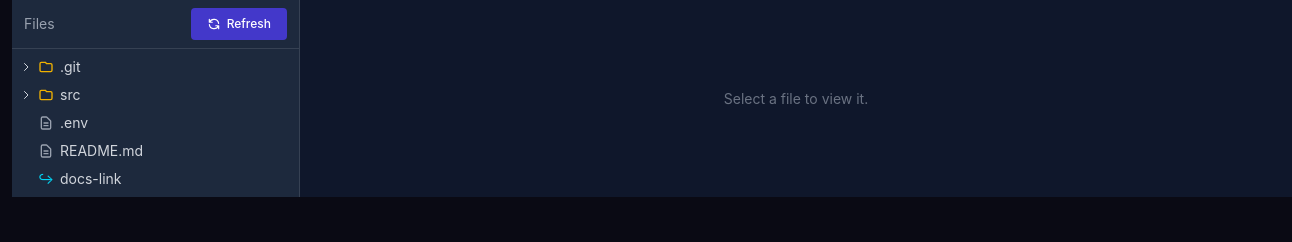
FileViewerWorkerView (desktop) › expands a directory lazily and opens a file from it with its path, line numbers and content
Click the button "src": (26, 95) [12, 81, 299, 109]
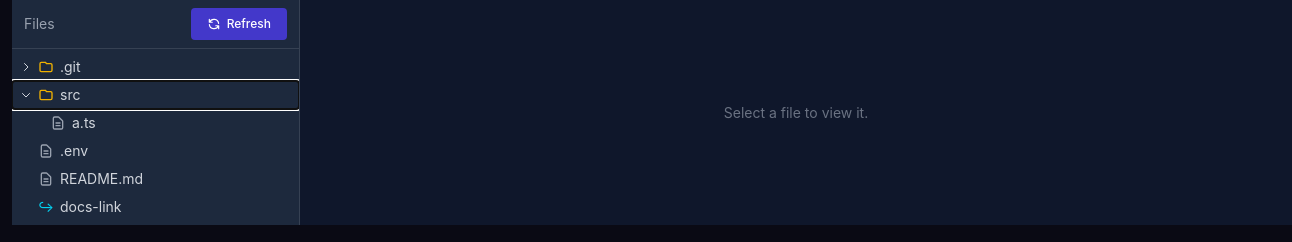
Click the button "a.ts": (58, 123) [12, 109, 299, 137]
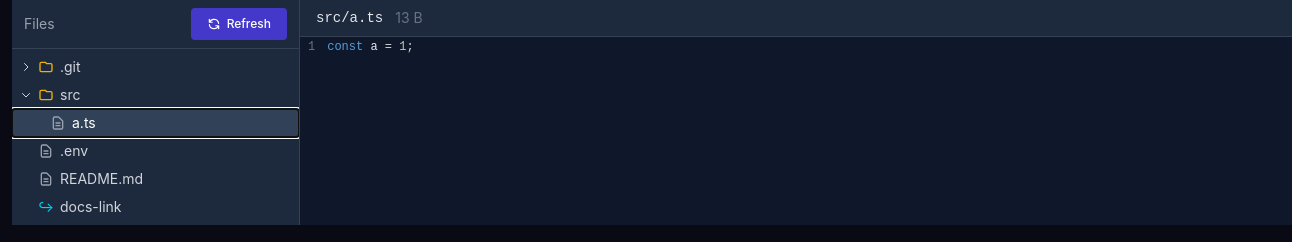
Check: the text "src/a.ts" is shown, box [316, 8, 383, 28]
Check: the element showing "1 const a = 1;" is shown, box [300, 37, 414, 57]
